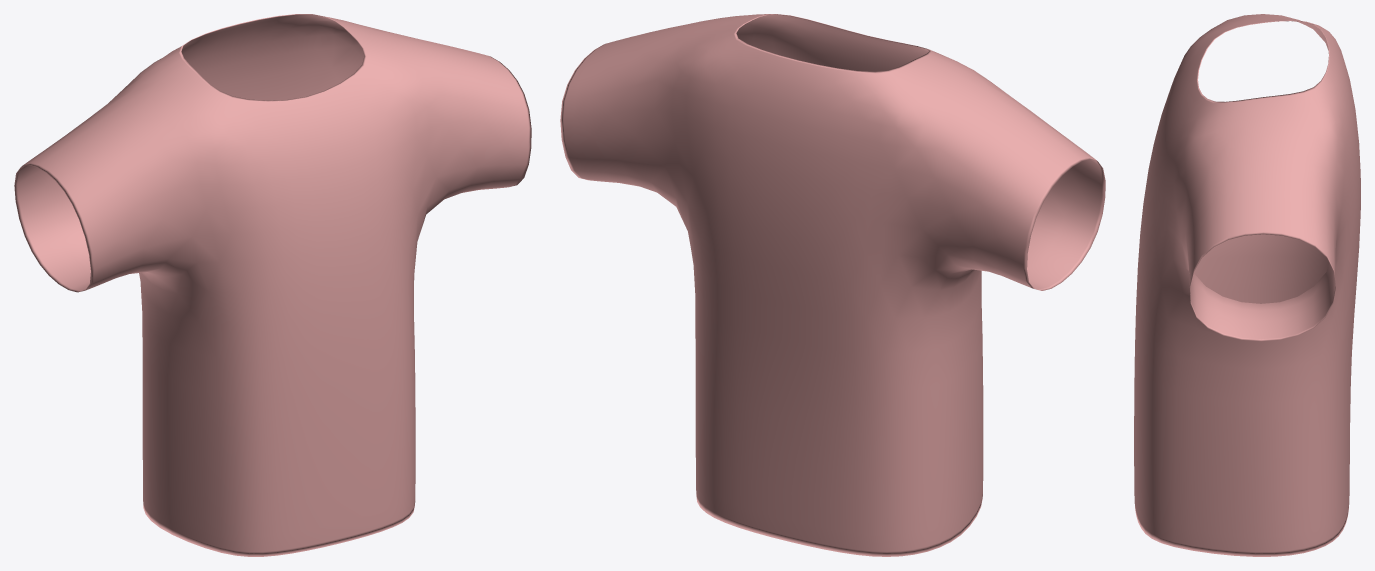
File: tshirtCBOTH.fbx
3 renders of one model, left to right at view 1: azimuth 30°, elevation 25°; view 2: azimuth 150°, elevation 25°; view 3: azimuth 270°, elevation 25°, orthographic. The views are drawn at different scales.
Parts seen in each view (by area): view 1: tshirtA:pCube1; view 2: tshirtA:pCube1; view 3: tshirtA:pCube1.
Part boxes in pixels (<box>): tshirtA:pCube1: <box>14,14,531,556</box>; tshirtA:pCube1: <box>560,14,1105,556</box>; tshirtA:pCube1: <box>1134,14,1360,556</box>.
Size of the model in its own units: 2.56 by 2.42 by 1.12.
